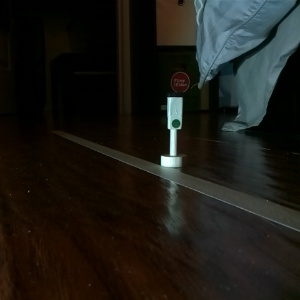traffic light green: (156, 91, 189, 169)
